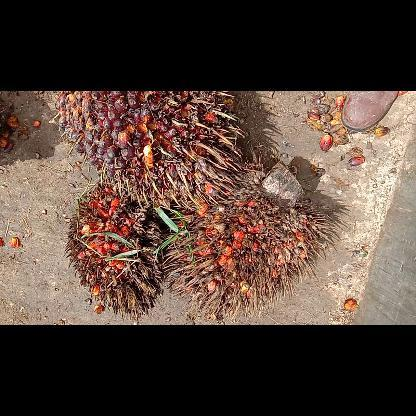TBS masak: (52, 90, 246, 209)
Terlalu masak: (162, 158, 334, 322), (62, 180, 164, 322)
